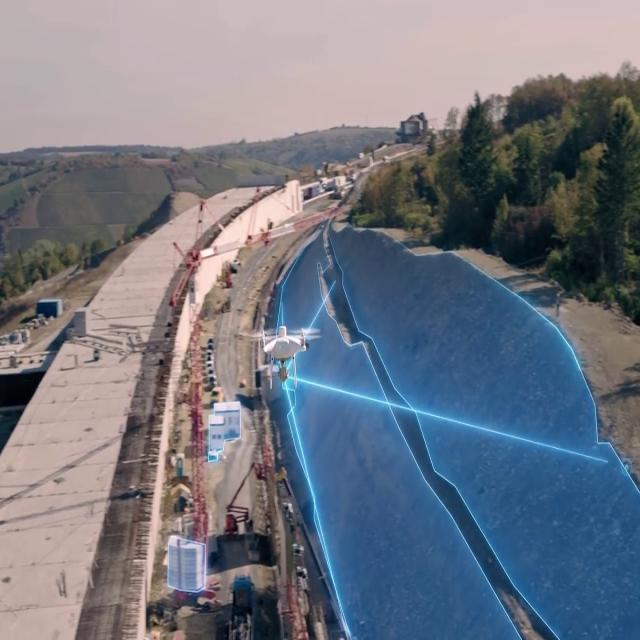drone: (241, 322, 323, 390)
